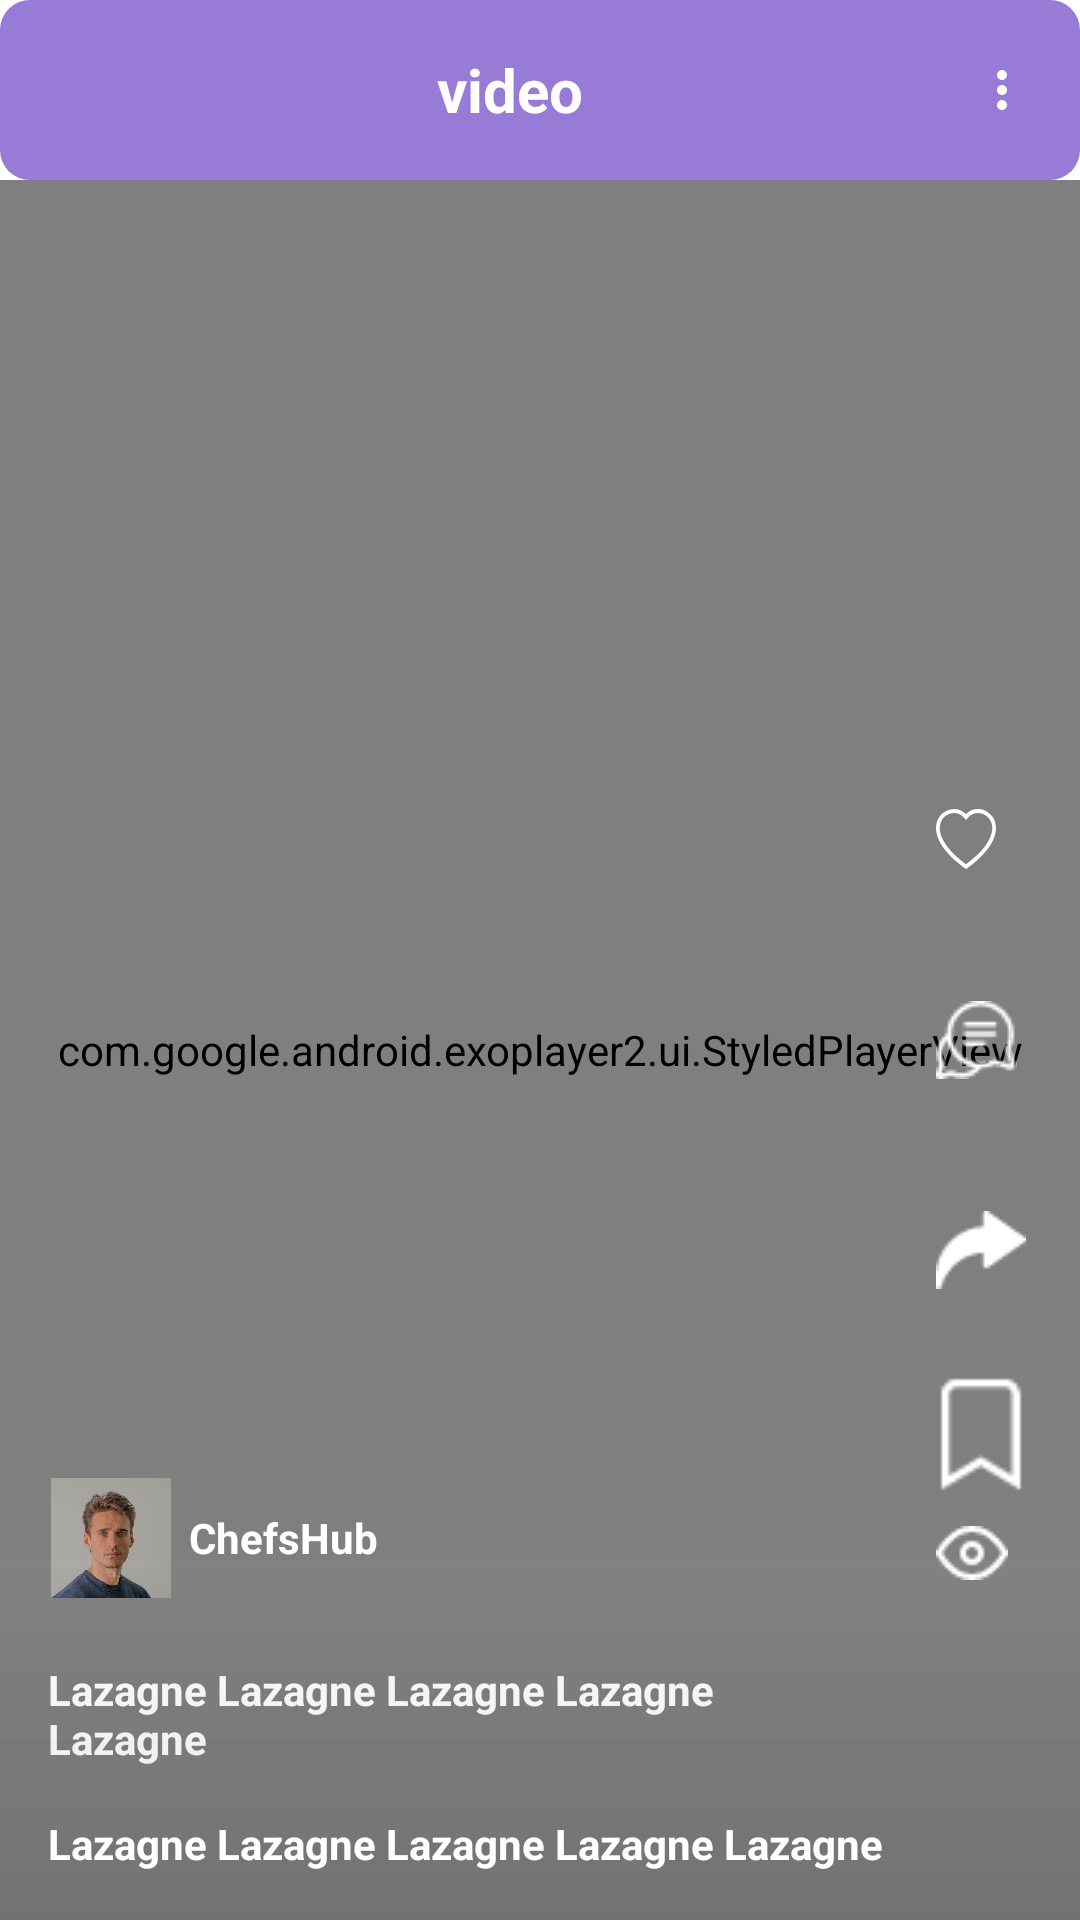

Where icons sit on this 1080w x 1920h app screen, as (left=x1, top=y1, right=x2, bottom=y2):
more vert: (left=997, top=70, right=1007, bottom=110)
unsaved: (left=941, top=1378, right=1021, bottom=1490)
